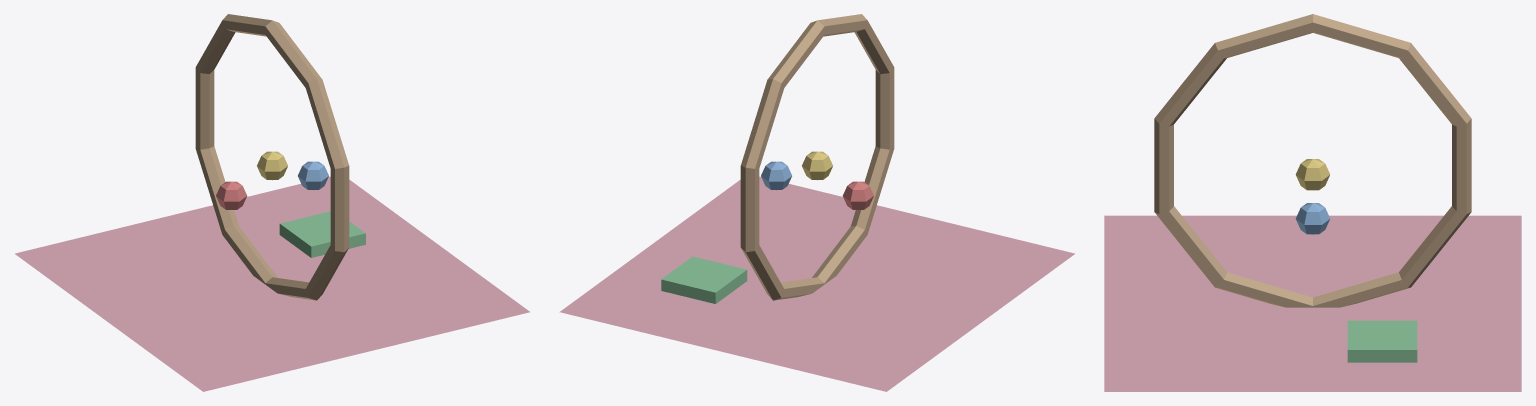
Rendered from kid_tapete_atividade.glb.
3 renders of one model, left to right at view 1: azimuth 30°, elevation 25°; view 2: azimuth 150°, elevation 25°; view 3: azimuth 270°, elevation 25°, orthographic. The views are drawn at different scales.
Parts seen in each view (by area): view 1: KID_TAPETE_ATIVIDADE_v01; view 2: KID_TAPETE_ATIVIDADE_v01; view 3: KID_TAPETE_ATIVIDADE_v01.
Part boxes in pixels (<box>): KID_TAPETE_ATIVIDADE_v01: <box>15,14,530,391</box>; KID_TAPETE_ATIVIDADE_v01: <box>559,14,1074,391</box>; KID_TAPETE_ATIVIDADE_v01: <box>1104,14,1521,391</box>.
Size of the model in its own units: 1.2 by 0.96 by 1.2.
